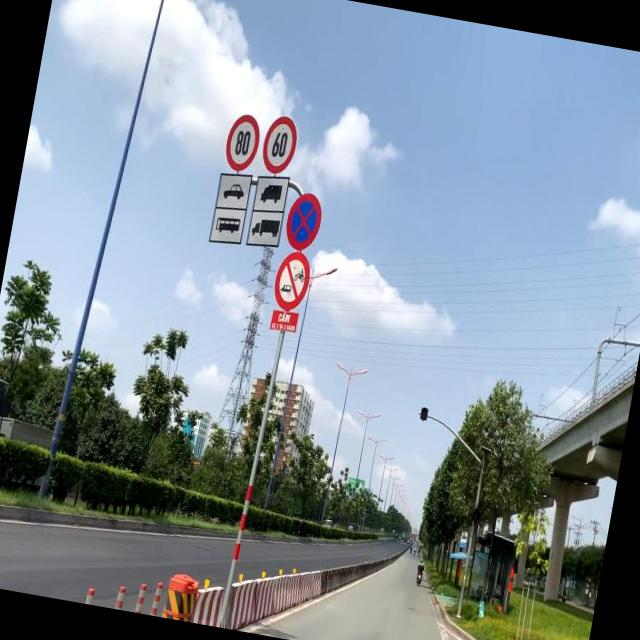P-104: (270, 248, 314, 312)
P-127: (221, 109, 263, 174), (258, 114, 300, 176)
P-130: (284, 190, 323, 250)
